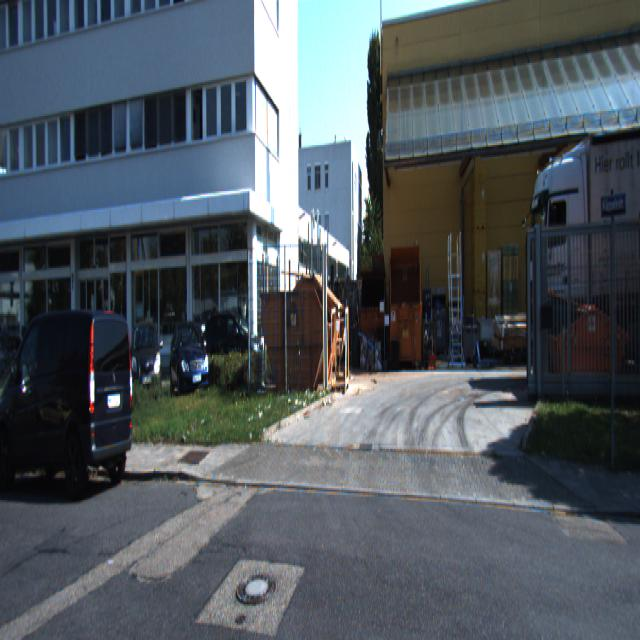Car: (0, 295, 135, 497), (169, 319, 210, 411), (128, 318, 163, 416)
